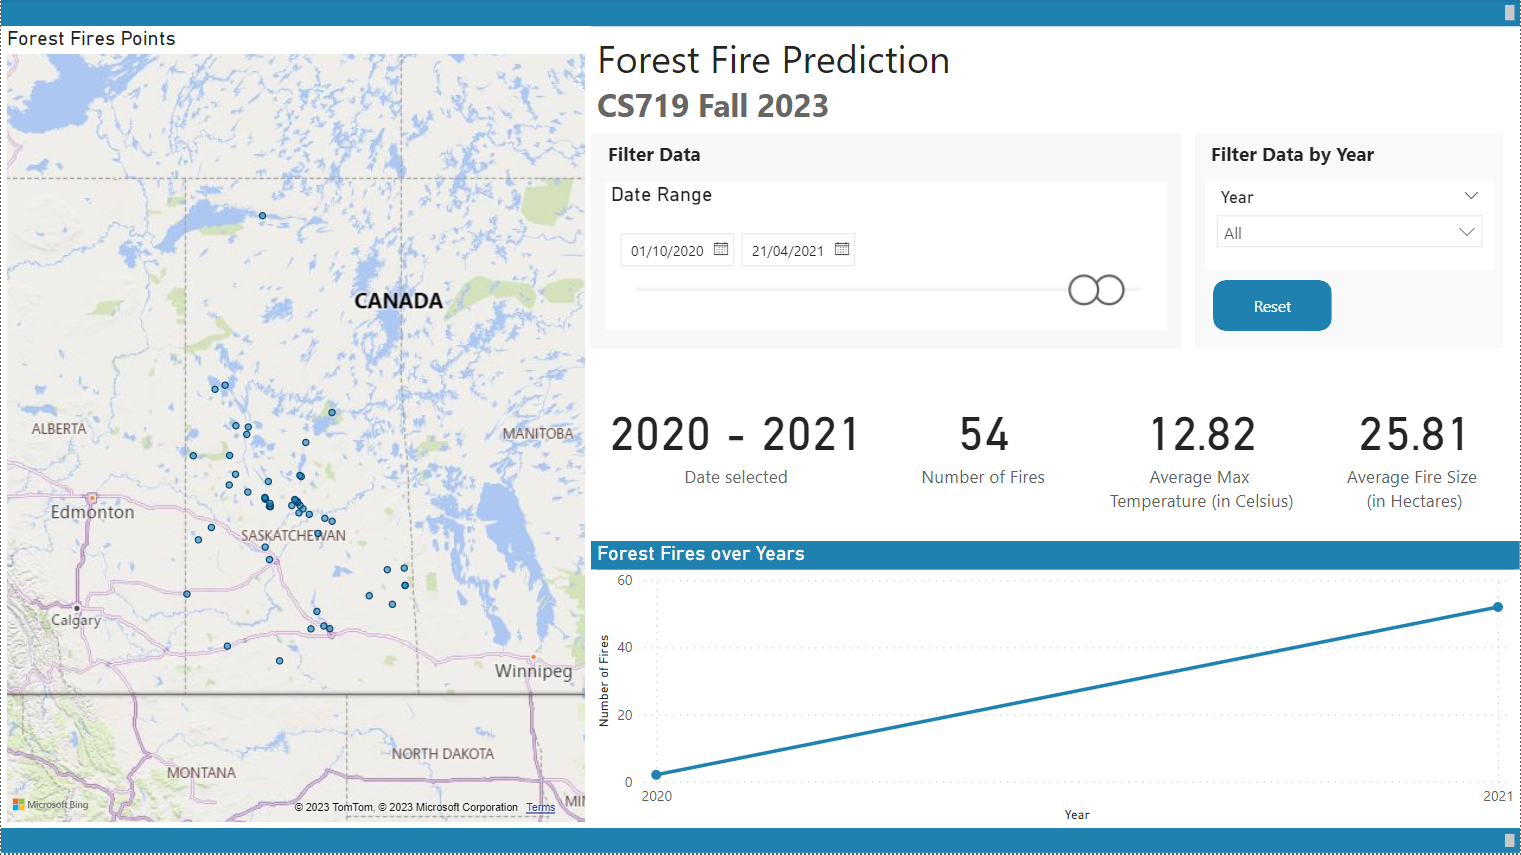

This screenshot's page, from the dashboard's own definition file:
{"tool":"powerbi","page":{"name":"Forest Fires","canvas":[1280,720],"ordinal":0},"visuals":[{"type":"textbox","box":[0,698.5,1280.6,21.5],"z":0},{"type":"shape","box":[497,112.8,454,175.5],"z":1000},{"type":"shape","box":[964.5,112.8,308.1,175.5],"z":2000},{"type":"textbox","box":[497,22.4,345.7,93.1],"z":3000},{"type":"slicer","title":"Date Range","fields":{"Values":["Date.Date"]},"box":[508.7,149.6,432.5,129.8],"z":4000},{"type":"slicer","fields":{"Values":["Date.Year"]},"box":[974.9,150.3,131,74.1],"z":5000},{"type":"textbox","box":[506,114.5,300,39.4],"z":6000},{"type":"textbox","box":[974,114.6,288.9,38],"z":7000},{"type":"textbox","box":[0,0,1280.7,22.8],"z":8000},{"type":"actionButton","box":[982.5,232.2,119,41.5],"z":9000},{"type":"card","fields":{"Values":["Predictions.Date selected"]},"box":[496,288,248,168],"z":10000},{"type":"card","fields":{"Values":["Avg(Predictions.SIZE_HA)"]},"box":[1120,288,144,168],"z":11000},{"type":"card","fields":{"Values":["Avg(Predictions.MAX_TEMPERATURE)"]},"box":[928,288,168,168],"z":12000},{"type":"lineChart","title":"Forest Fires over Years","fields":{"Category":["Date.Year","Date.Month"],"Y":["CountNonNull(Predictions.Check_Condition)"]},"box":[497,456.7,782.7,241.8],"z":13000},{"type":"map","title":"Forest Fires Points","fields":{"Y":["Predictions.FOREST_FIRE_LATITUDE"],"X":["Predictions.FOREST_FIRE_LONGITUDE"]},"box":[0,22.8,497.4,676.2],"z":14000},{"type":"card","fields":{"Values":["Predictions.Number of Fires"]},"box":[752,288,152,168],"z":15000},{"type":"slicer","fields":{"Values":["Date.Month"]},"box":[1112.2,149.7,151.3,75.2],"z":16000}]}

Visuals, with their boxes in screenshot pixels (x1, y1, x2, y2), scaled from the page's 1280x720 canvas onto the 1521x855 screenshot:
textbox: crop(0, 829, 1520, 854)
shape: crop(591, 134, 1130, 342)
shape: crop(1146, 134, 1512, 342)
textbox: crop(591, 27, 1001, 137)
"Date Range" slicer: crop(604, 178, 1118, 332)
slicer - Date.Year: crop(1158, 178, 1314, 266)
textbox: crop(601, 136, 958, 183)
textbox: crop(1157, 136, 1501, 181)
textbox: crop(0, 0, 1520, 27)
actionButton: crop(1167, 276, 1309, 325)
card - Predictions.Date selected: crop(589, 342, 884, 542)
card - Avg(Predictions.SIZE_HA): crop(1331, 342, 1502, 542)
card - Avg(Predictions.MAX_TEMPERATURE): crop(1103, 342, 1302, 542)
"Forest Fires over Years" lineChart: crop(591, 542, 1520, 829)
"Forest Fires Points" map: crop(0, 27, 591, 830)
card - Predictions.Number of Fires: crop(894, 342, 1074, 542)
slicer - Date.Month: crop(1322, 178, 1501, 267)
